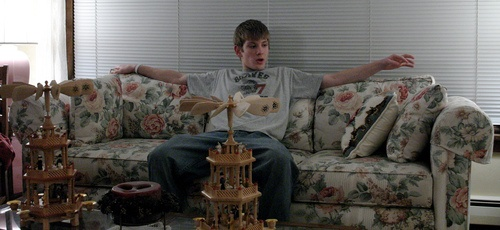head: (235, 19, 272, 72)
person: (110, 19, 416, 230)
